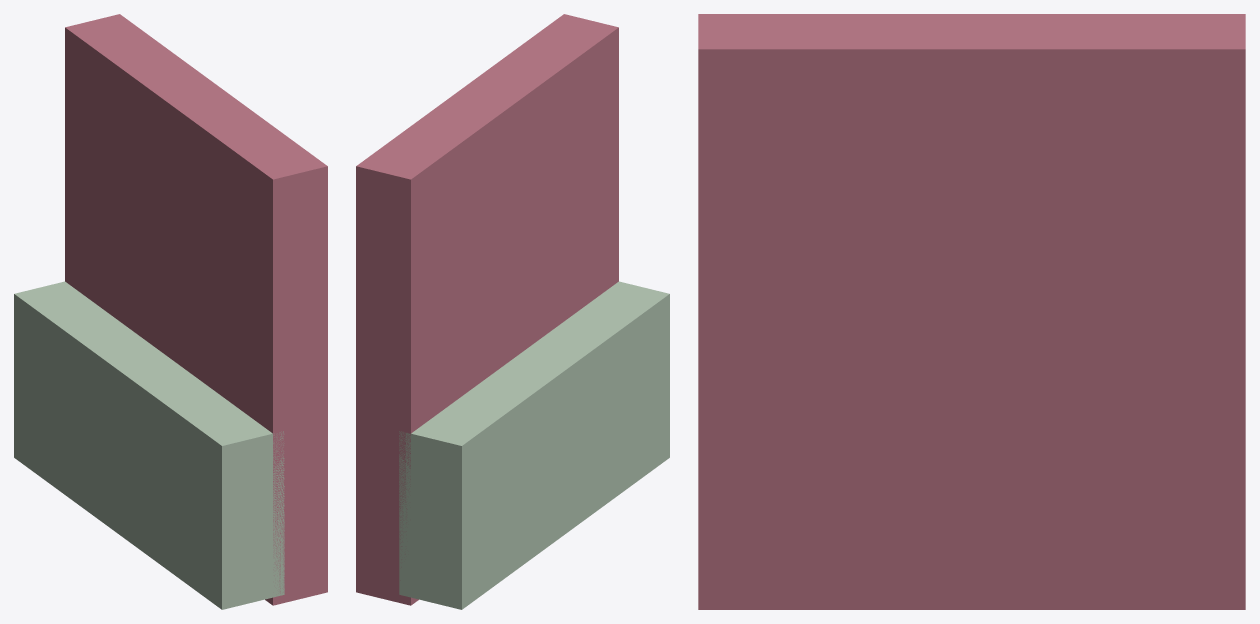
Rendered from 199539_pred.glb.
The picture shows the model from 3 angles, left to right: view 1: azimuth 30°, elevation 25°; view 2: azimuth 150°, elevation 25°; view 3: azimuth 270°, elevation 25°; orthographic projection. The views are drawn at different scales.
Parts seen in each view (by area): view 1: world; view 2: world; view 3: world.
Part boxes in pixels (x1,y1,x2,y2): world: [14, 14, 327, 609]; world: [356, 14, 669, 609]; world: [698, 14, 1245, 609].
Bounding box in the file's own units: 1.35 × 5.2 × 4.6.
